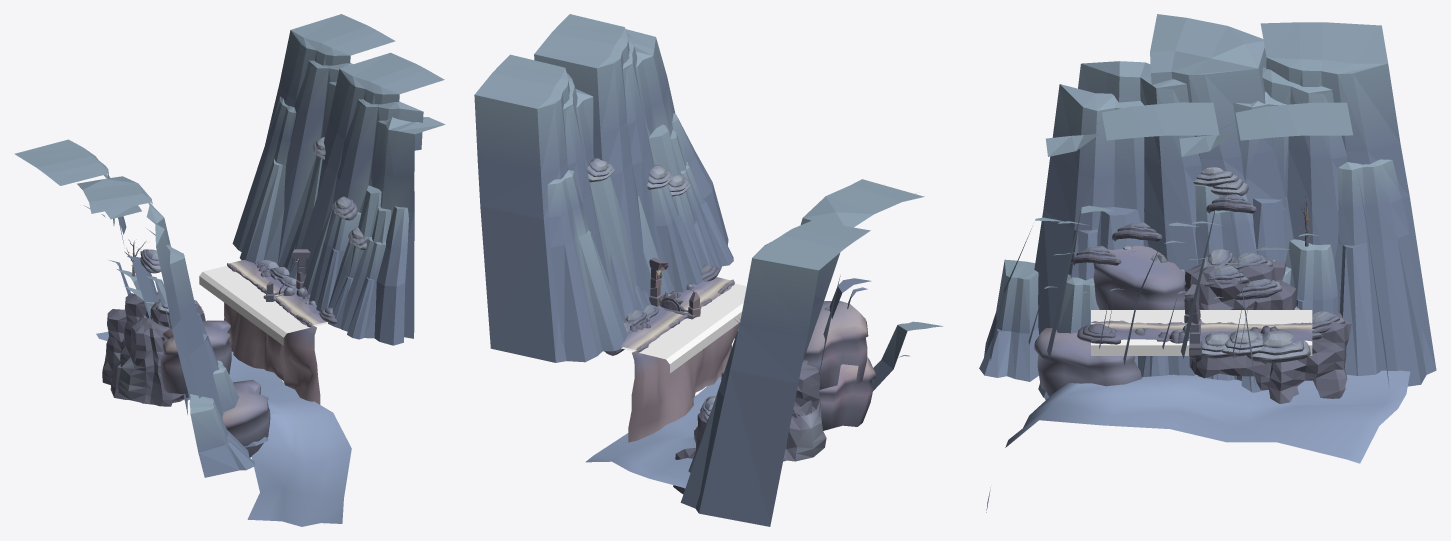
Rendered from Arctic_Narrows_Left_Straight_A_Jump_B.glb.
3 views of the same model, side by side, from view 1: azimuth 30°, elevation 25°; view 2: azimuth 150°, elevation 25°; view 3: azimuth 270°, elevation 25° (orthographic). The views are drawn at different scales.
Visible parts, largest first — view 1: Arctic_Narrows_Left_Straight_A, Arctic_Narrows_Left_IceWall_A01 (2), Arctic_Narrows_Left_IceWall_A01 (3), Arctic_Narrows_Left_IceWall_A01_Right, Arctic_Narrows_Right_IceWall_A01 (1), Arctic_Narrows_Left_IceWall_A01_Left (×2), Arctic_Narrows_Right_IceWall_A01_Left, Arctic_Narrows_Right_IceWall_A02 (1), inv_fill, Arctic_Narrows_Big_Rock_A01_Top (×3), Arctic_Narrows_Left_IceWall_A01_Mid, Arctic_Narrows_Big_Rock_A01 (4) (+2 smaller); view 2: Arctic_Narrows_Left_IceWall_A01 (3), Arctic_Narrows_Right_IceWall_A02 (1), Arctic_Narrows_Left_Straight_A, Arctic_Narrows_Left_IceWall_A01 (2), Arctic_Narrows_Left_IceWall_A01_Left (×2), Arctic_Narrows_Left_IceWall_A01_Right (×2), Arctic_Narrows_Right_IceWall_A01 (1), inv_fill, Arctic_Narrows_Left_IceWall_A01_Mid, Arctic_Narrows_Right_IceWall_A02_Right, Arctic_Narrows_Big_Rock_A01 (4), Arctic_Narrows_Right_IceWall_A01_Left (+2 smaller); view 3: Arctic_Narrows_Right_IceWall_A01 (1), Arctic_Narrows_Left_Straight_A, Arctic_Narrows_Right_IceWall_A02 (1), Arctic_Narrows_Right_IceWall_A02_Right, Arctic_Narrows_Right_IceWall_A01_Left, Arctic_Narrows_Left_IceWall_A01 (2), Arctic_Narrows_Left_IceWall_A01 (3), inv_fill, Arctic_Narrows_Right_IceWall_A01_Mid, Arctic_Narrows_Big_Rock_A01_Top (×3), Arctic_Narrows_Right_IceWall_A02_Mid, Arctic_Narrows_Big_Rock_A01_Mid (+3 smaller).
Part boxes in pixels (bbox=[...]): Arctic_Narrows_Left_Straight_A: bbox=[96, 260, 351, 526]; Arctic_Narrows_Left_IceWall_A01 (2): bbox=[301, 52, 445, 338]; Arctic_Narrows_Left_IceWall_A01 (3): bbox=[265, 14, 395, 273]; Arctic_Narrows_Left_IceWall_A01_Right: bbox=[328, 206, 408, 345]; Arctic_Narrows_Right_IceWall_A01 (1): bbox=[77, 176, 223, 418]; Arctic_Narrows_Left_IceWall_A01_Left (×2): bbox=[232, 96, 332, 294]; Arctic_Narrows_Right_IceWall_A01_Left: bbox=[189, 360, 268, 477]; Arctic_Narrows_Right_IceWall_A02 (1): bbox=[14, 139, 189, 414]; inv_fill: bbox=[199, 265, 327, 345]; Arctic_Narrows_Big_Rock_A01_Top (×3): bbox=[107, 293, 205, 351]; Arctic_Narrows_Left_IceWall_A01_Mid: bbox=[309, 212, 361, 311]; Arctic_Narrows_Big_Rock_A01 (4): bbox=[118, 367, 188, 406]; Arctic_Narrows_Left_IceWall_A01 (3): bbox=[474, 54, 645, 362]; Arctic_Narrows_Right_IceWall_A02 (1): bbox=[695, 220, 870, 526]; Arctic_Narrows_Left_Straight_A: bbox=[585, 277, 875, 488]; Arctic_Narrows_Left_IceWall_A01 (2): bbox=[534, 14, 687, 294]; Arctic_Narrows_Left_IceWall_A01_Left (×2): bbox=[547, 170, 673, 362]; Arctic_Narrows_Left_IceWall_A01_Right (×2): bbox=[610, 113, 733, 320]; Arctic_Narrows_Right_IceWall_A01 (1): bbox=[800, 179, 924, 374]; inv_fill: bbox=[621, 283, 746, 373]; Arctic_Narrows_Left_IceWall_A01_Mid: bbox=[651, 184, 702, 292]; Arctic_Narrows_Right_IceWall_A02_Right: bbox=[680, 327, 739, 508]; Arctic_Narrows_Big_Rock_A01 (4): bbox=[783, 422, 826, 461]; Arctic_Narrows_Right_IceWall_A01_Left: bbox=[871, 321, 942, 390]; Arctic_Narrows_Right_IceWall_A01 (1): bbox=[1034, 14, 1293, 366]; Arctic_Narrows_Left_Straight_A: bbox=[986, 245, 1410, 512]; Arctic_Narrows_Right_IceWall_A02 (1): bbox=[1233, 22, 1436, 374]; Arctic_Narrows_Right_IceWall_A02_Right: bbox=[1334, 159, 1426, 386]; Arctic_Narrows_Right_IceWall_A01_Left: bbox=[979, 259, 1099, 398]; Arctic_Narrows_Left_IceWall_A01 (2): bbox=[1045, 102, 1255, 387]; Arctic_Narrows_Left_IceWall_A01 (3): bbox=[1179, 102, 1389, 386]; inv_fill: bbox=[1091, 310, 1312, 355]; Arctic_Narrows_Right_IceWall_A01_Mid: bbox=[1138, 184, 1256, 379]; Arctic_Narrows_Big_Rock_A01_Top (×3): bbox=[1184, 257, 1351, 353]; Arctic_Narrows_Right_IceWall_A02_Mid: bbox=[1282, 239, 1337, 315]; Arctic_Narrows_Big_Rock_A01_Mid: bbox=[1268, 348, 1347, 403].
Size of the model in its own units: 24.55 by 25.9 by 22.33.
